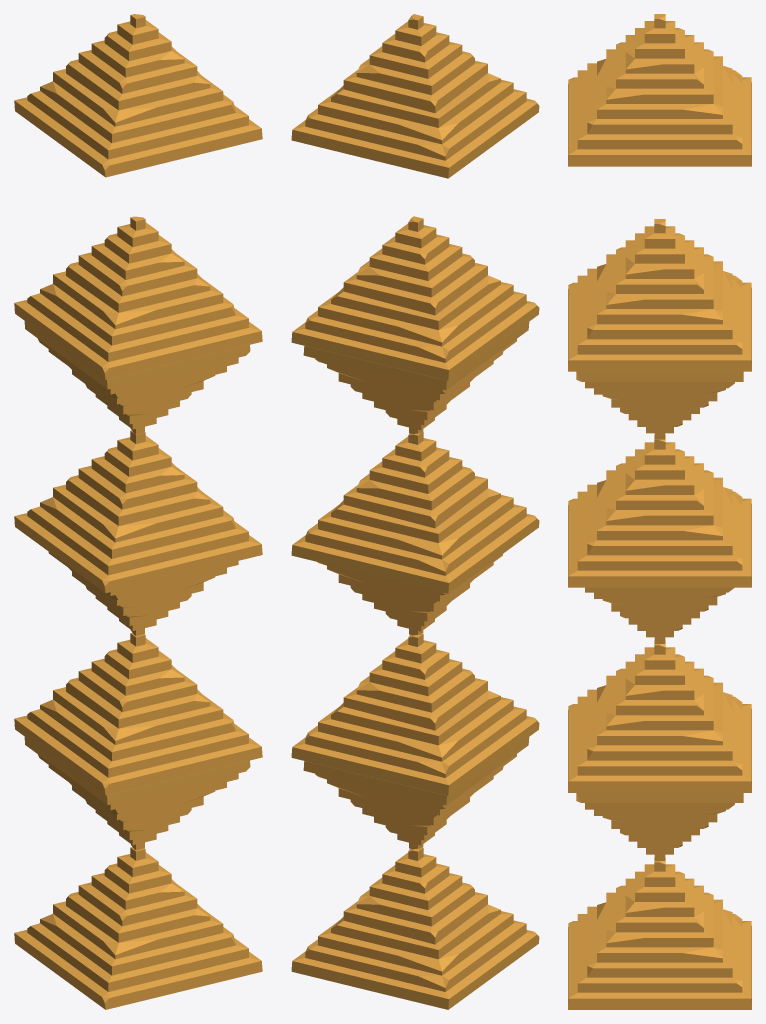
The picture shows the model from 3 angles, left to right: view 1: azimuth 30°, elevation 25°; view 2: azimuth 150°, elevation 25°; view 3: azimuth 270°, elevation 25°; orthographic projection.
Parts seen in each view (by area): view 1: pyramid2; view 2: pyramid2; view 3: pyramid2.
Part boxes in pixels (x1,y1,x2,y2): pyramid2: (14,14,262,1009); pyramid2: (291,14,539,1009); pyramid2: (568,14,751,1009).
Size of the model in its own units: 31.79 by 181 by 31.65.
